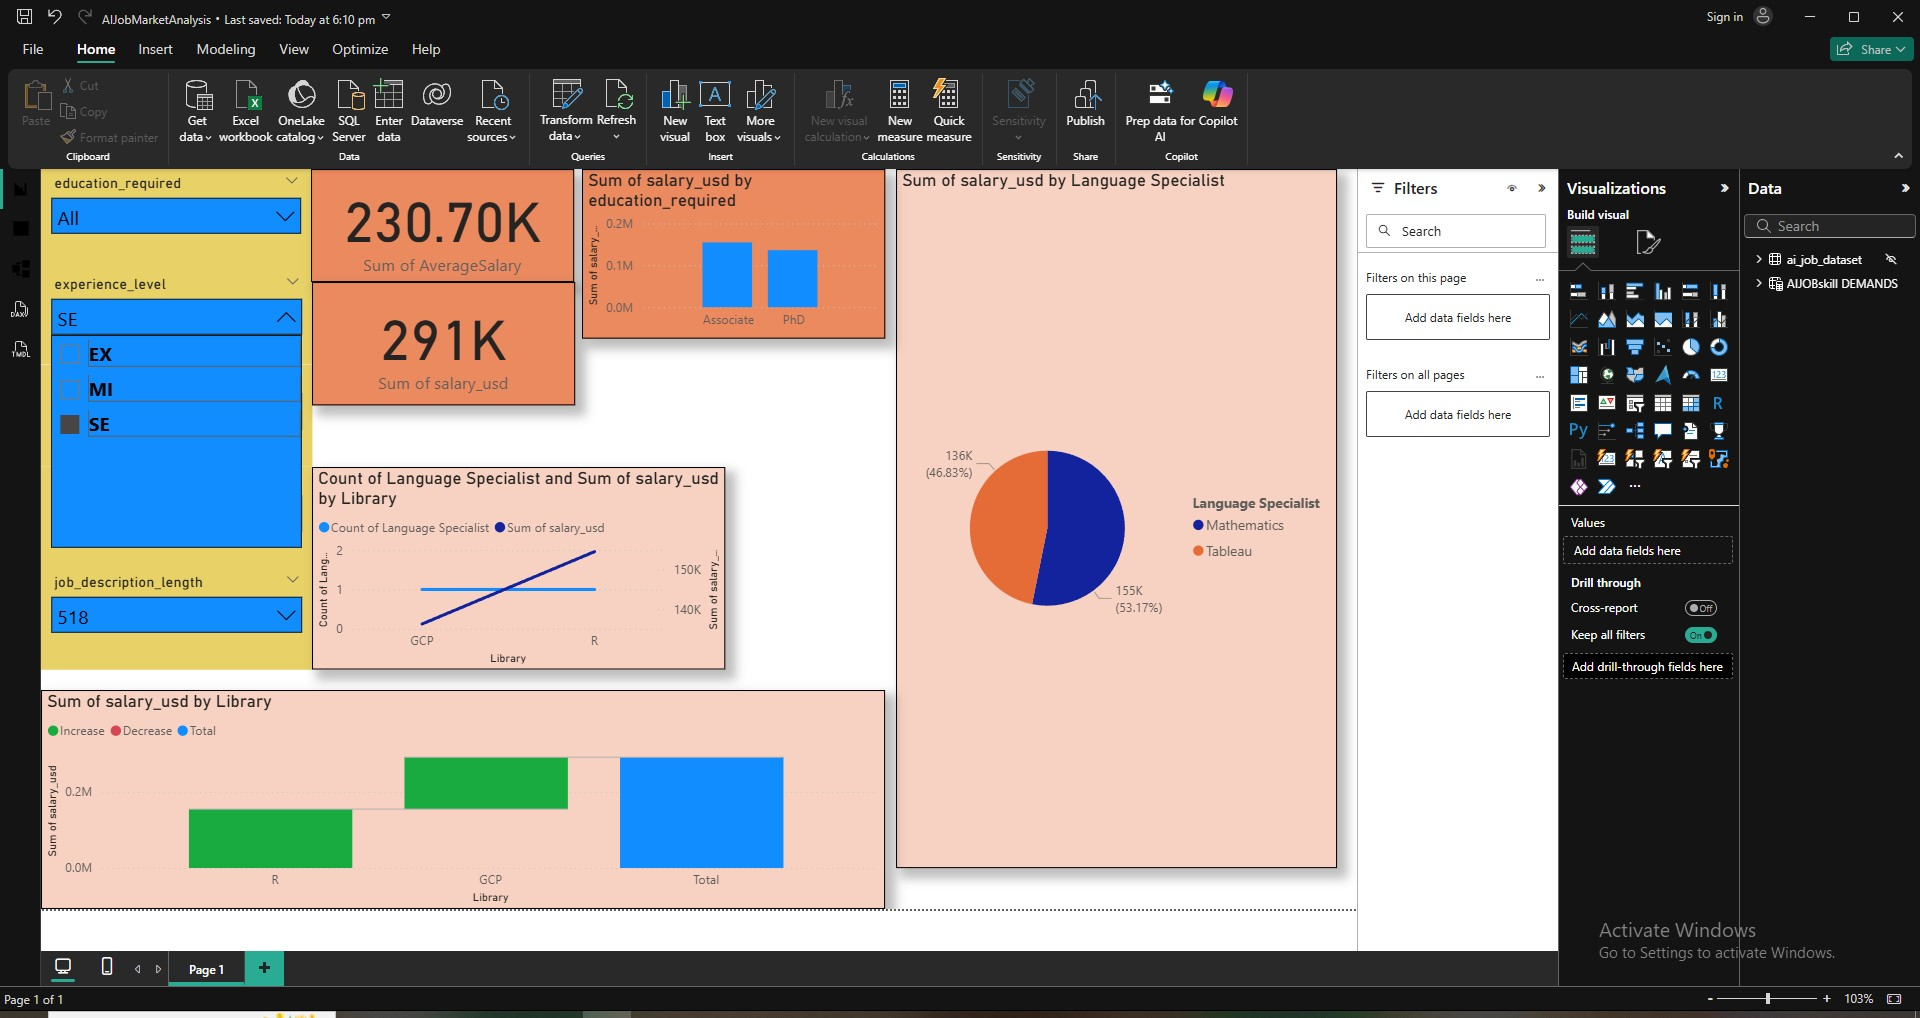

What the dashboard file says about the page in this screenshot:
{"tool":"powerbi","page":{"name":"Page 1","canvas":[1280,720],"ordinal":0},"visuals":[{"type":"slicer","fields":{"Values":["AIJOBskill DEMANDS.job_description_length"]},"box":[0,388.1,264.1,98.6],"z":0},{"type":"slicer","fields":{"Values":["AIJOBskill DEMANDS.experience_level"]},"box":[0,98.6,264.1,92.3],"z":1000},{"type":"slicer","fields":{"Values":["AIJOBskill DEMANDS.Language Specialist"]},"box":[0,190.9,264.1,98.6],"z":2000},{"type":"slicer","fields":{"Values":["AIJOBskill DEMANDS.Library"]},"box":[0,289.5,264.1,98.6],"z":3000},{"type":"slicer","fields":{"Values":["AIJOBskill DEMANDS.education_required"]},"box":[0,0,263,98.6],"z":4000},{"type":"card","fields":{"Values":["Sum(AIJOBskill DEMANDS.AverageSalary)"]},"box":[263,0,255.6,110.3],"z":5000},{"type":"card","fields":{"Values":["Sum(AIJOBskill DEMANDS.salary_usd)"]},"box":[264.1,110.3,255.6,119.8],"z":6000},{"type":"columnChart","fields":{"Category":["AIJOBskill DEMANDS.education_required"],"Y":["Sum(AIJOBskill DEMANDS.salary_usd)"]},"box":[526,0,294.8,165.4],"z":7000},{"type":"pieChart","fields":{"Category":["AIJOBskill DEMANDS.Language Specialist"],"Y":["Sum(AIJOBskill DEMANDS.salary_usd)"]},"box":[831.4,0,429.5,679.8],"z":8000},{"type":"waterfallChart","fields":{"Category":["AIJOBskill DEMANDS.Library"],"Y":["Sum(AIJOBskill DEMANDS.salary_usd)"]},"box":[0,506.9,820.8,213.2],"z":9000},{"type":"lineChart","fields":{"Category":["AIJOBskill DEMANDS.Library"],"Y":["CountNonNull(AIJOBskill DEMANDS.Language Specialist)"],"Y2":["Sum(AIJOBskill DEMANDS.salary_usd)"]},"box":[264.1,289.5,401.9,197.2],"z":10000}]}

Visuals, with their boxes on the page's 1280x720 design canvas (x1, y1, x2, y2). These are canvas units, not pixel positions in the 1920x1018 screenshot, which may show the page scaled, cropped or inside an application window:
slicer - AIJOBskill DEMANDS.job_description_length: left=0, top=388, right=264, bottom=487
slicer - AIJOBskill DEMANDS.experience_level: left=0, top=99, right=264, bottom=191
slicer - AIJOBskill DEMANDS.Language Specialist: left=0, top=191, right=264, bottom=290
slicer - AIJOBskill DEMANDS.Library: left=0, top=290, right=264, bottom=388
slicer - AIJOBskill DEMANDS.education_required: left=0, top=0, right=263, bottom=99
card - Sum(AIJOBskill DEMANDS.AverageSalary): left=263, top=0, right=519, bottom=110
card - Sum(AIJOBskill DEMANDS.salary_usd): left=264, top=110, right=520, bottom=230
columnChart - AIJOBskill DEMANDS.education_required x Sum(AIJOBskill DEMANDS.salary_usd): left=526, top=0, right=821, bottom=165
pieChart - AIJOBskill DEMANDS.Language Specialist x Sum(AIJOBskill DEMANDS.salary_usd): left=831, top=0, right=1261, bottom=680
waterfallChart - AIJOBskill DEMANDS.Library x Sum(AIJOBskill DEMANDS.salary_usd): left=0, top=507, right=821, bottom=720
lineChart - AIJOBskill DEMANDS.Library x CountNonNull(AIJOBskill DEMANDS.Language Specialist): left=264, top=290, right=666, bottom=487
